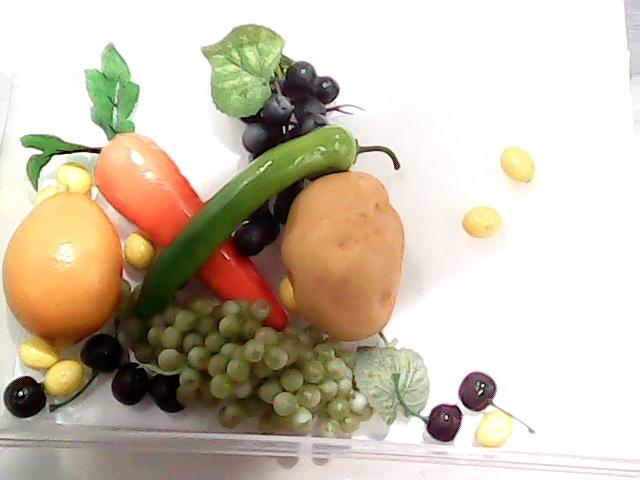carrot: (22, 41, 288, 334)
grape: (200, 25, 340, 261), (146, 302, 370, 434)
lemon: (0, 186, 126, 346)
pepper: (127, 119, 365, 325)
potato: (278, 172, 406, 342)
